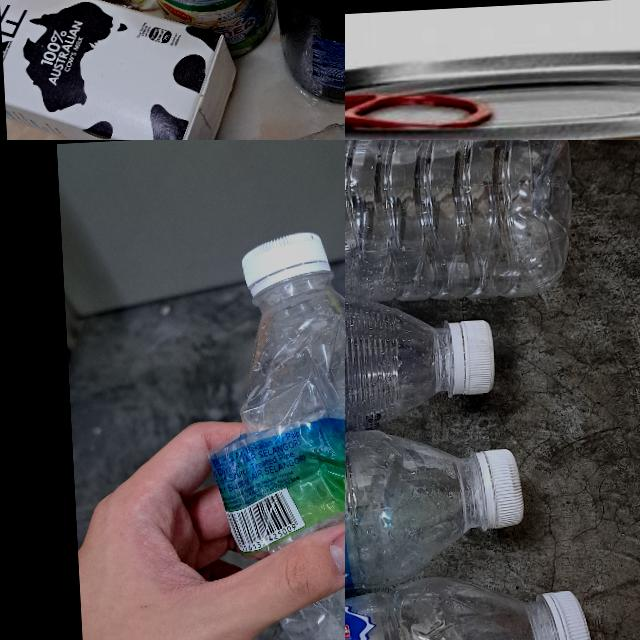aba de lata: (345, 84, 499, 138)
caixinha: (0, 0, 242, 140)
garrafa plástica: (201, 268, 345, 640), (345, 140, 584, 315), (345, 422, 495, 622), (345, 285, 452, 448), (19, 92, 345, 140), (345, 572, 562, 640), (345, 140, 562, 172)
lata: (345, 37, 640, 140), (136, 0, 285, 65)
tampa plástica: (240, 230, 330, 290), (476, 448, 526, 532), (457, 318, 497, 395), (538, 587, 596, 640)
